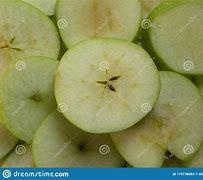apple: (54, 39, 163, 129)
